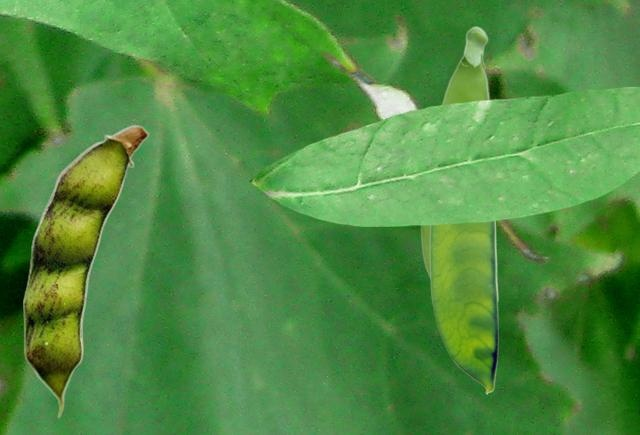pea: (23, 124, 148, 417), (420, 25, 490, 278), (429, 222, 497, 393)
